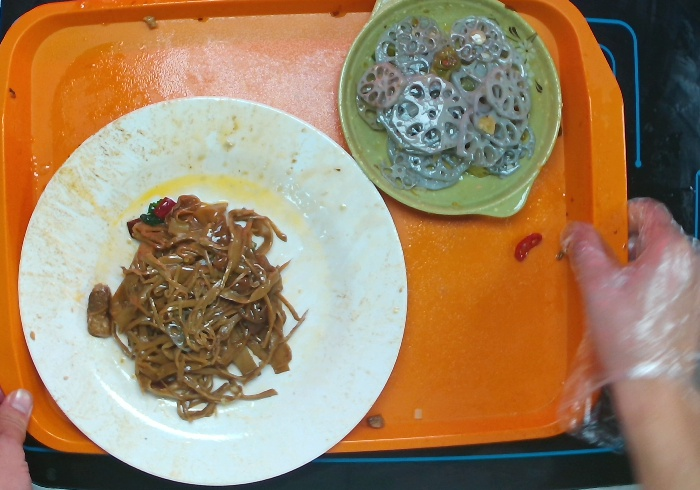NLDX-Da_Yuan_Pan: (15, 92, 411, 490)
NLDX-Lv_Hua_Shuang_Er_Die: (334, 1, 568, 223)
